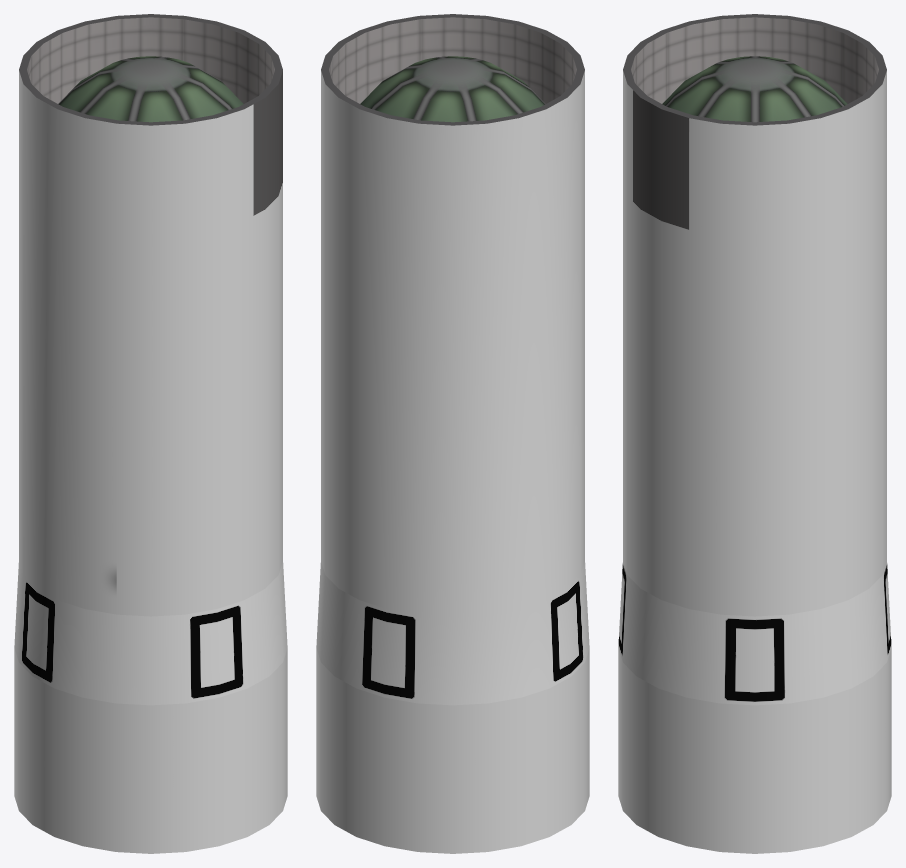
The model's file is Ablestar_Stage.obj.
3 views of the same model, side by side, from view 1: azimuth 30°, elevation 25°; view 2: azimuth 150°, elevation 25°; view 3: azimuth 270°, elevation 25° (orthographic).
Parts seen in each view (by area): view 1: Ablestar_Stage, Fairing; view 2: Ablestar_Stage, Fairing; view 3: Ablestar_Stage, Fairing.
Part boxes in pixels (bbox=[...]): Ablestar_Stage: bbox=[14, 14, 287, 705]; Fairing: bbox=[14, 648, 287, 853]; Ablestar_Stage: bbox=[316, 14, 589, 705]; Fairing: bbox=[316, 648, 589, 853]; Ablestar_Stage: bbox=[618, 14, 891, 705]; Fairing: bbox=[618, 648, 891, 853].
Size of the model in its own units: 1.5 by 4.41 by 1.5.
